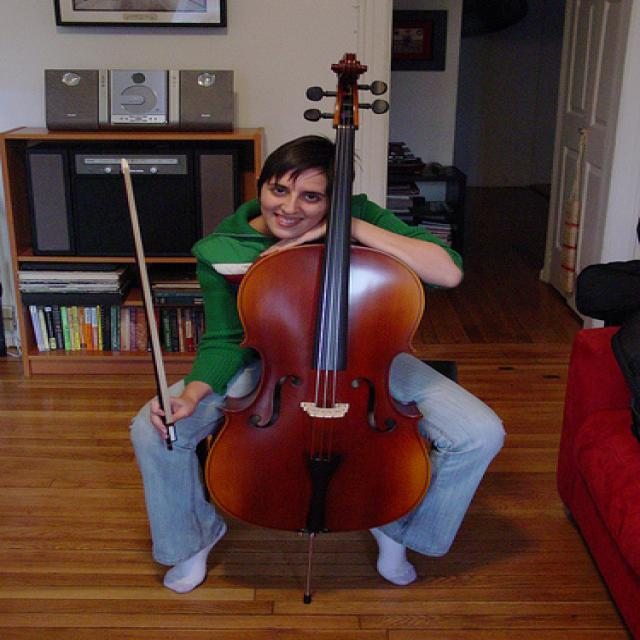cello: (202, 50, 440, 537)
